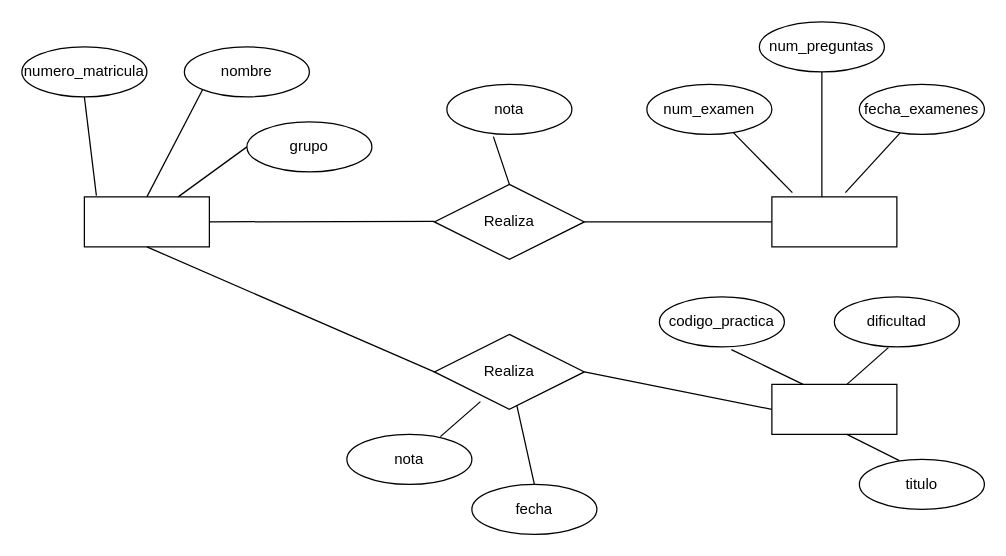
The diagram is 1006 pixels wide and 556 high, and some of its shapes have lost their labels. Each missing label, with the centre of its shape:
Alumnos: point (146, 221)
Examen: point (834, 221)
Practica: point (834, 408)
